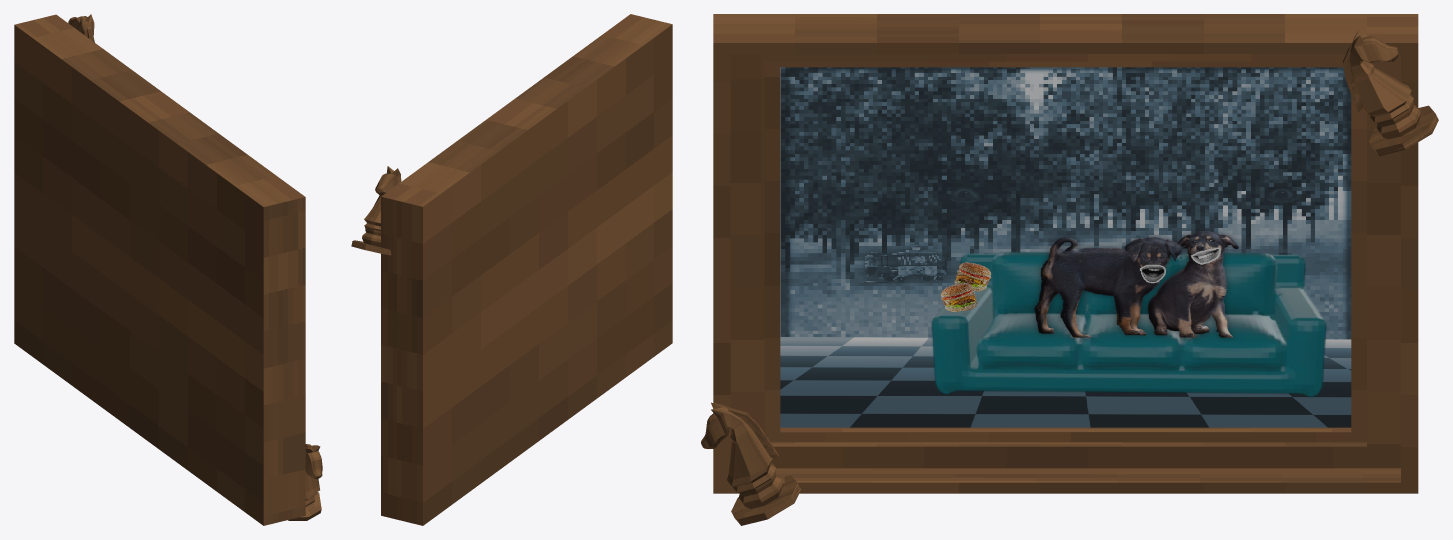
Rendered from QUADRO_CACHORRO_AZUL.fbx.
The picture shows the model from 3 angles, left to right: view 1: azimuth 30°, elevation 25°; view 2: azimuth 150°, elevation 25°; view 3: azimuth 270°, elevation 25°; orthographic projection. The views are drawn at different scales.
Parts seen in each view (by area): view 1: QUADRO_CACHORRO_AZUL.001, PEÇA_CAVALO; view 2: QUADRO_CACHORRO_AZUL.001, PEÇA_CAVALO; view 3: QUADRO_CACHORRO_AZUL.001, PEÇA_CAVALO.
Part boxes in pixels (box(x1,y1,x2,y2)): QUADRO_CACHORRO_AZUL.001: box(14, 14, 305, 525); PEÇA_CAVALO: box(68, 14, 322, 520); QUADRO_CACHORRO_AZUL.001: box(381, 14, 672, 525); PEÇA_CAVALO: box(351, 166, 401, 255); QUADRO_CACHORRO_AZUL.001: box(713, 14, 1418, 493); PEÇA_CAVALO: box(701, 28, 1438, 525).
Size of the model in its own units: 34.11 by 152 by 209.
